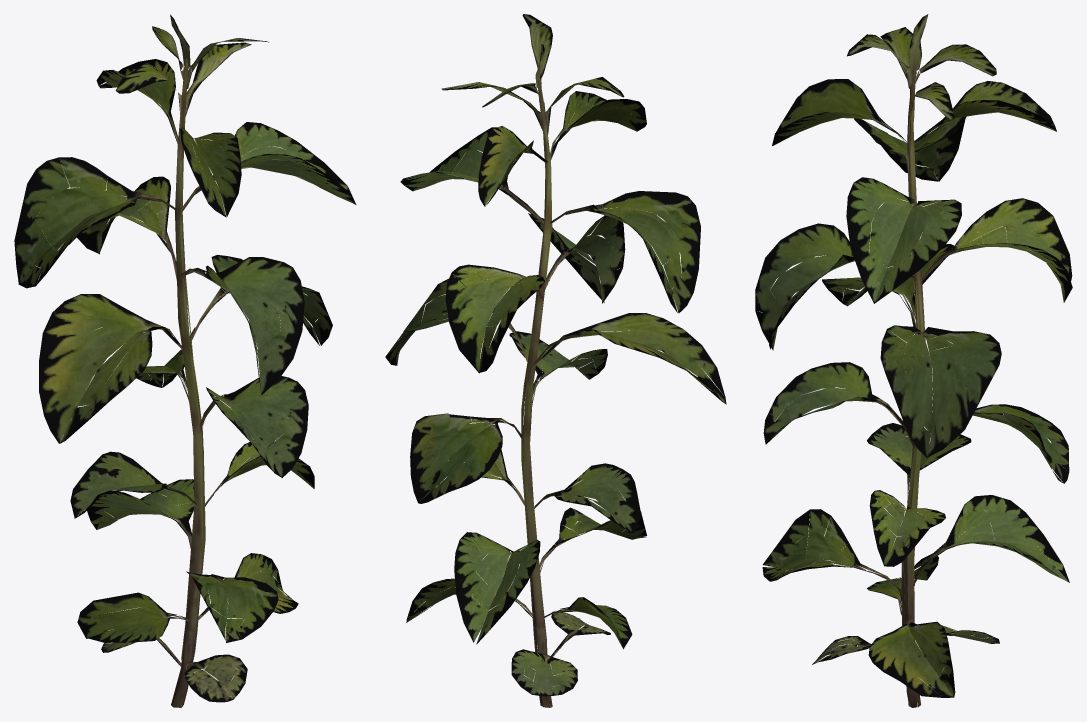
Rendered from nettle_plant_v5.glb.
3 views of the same model, side by side, from view 1: azimuth 30°, elevation 25°; view 2: azimuth 150°, elevation 25°; view 3: azimuth 270°, elevation 25° (orthographic). The views are drawn at different scales.
Visible parts, largest first — view 1: lod0; view 2: lod0; view 3: lod0.
Part boxes in pixels (x1,y1,x2,y2): lod0: [14, 14, 356, 707]; lod0: [385, 14, 726, 707]; lod0: [755, 14, 1072, 707].
Size of what is drawn, in the model's own units: 0.1035 by 0.2167 by 0.0902.
1 material, 1 textured.
